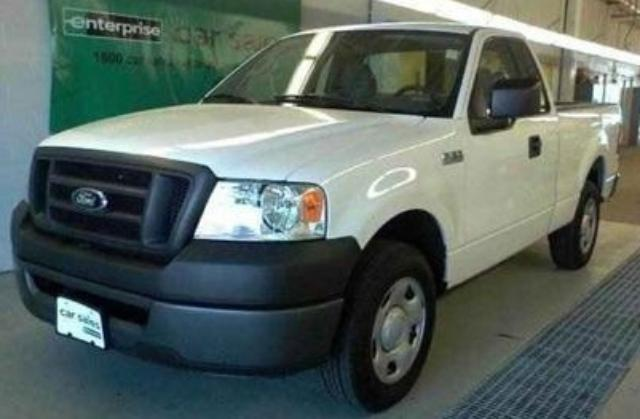pickup-truck: (10, 21, 625, 413)
